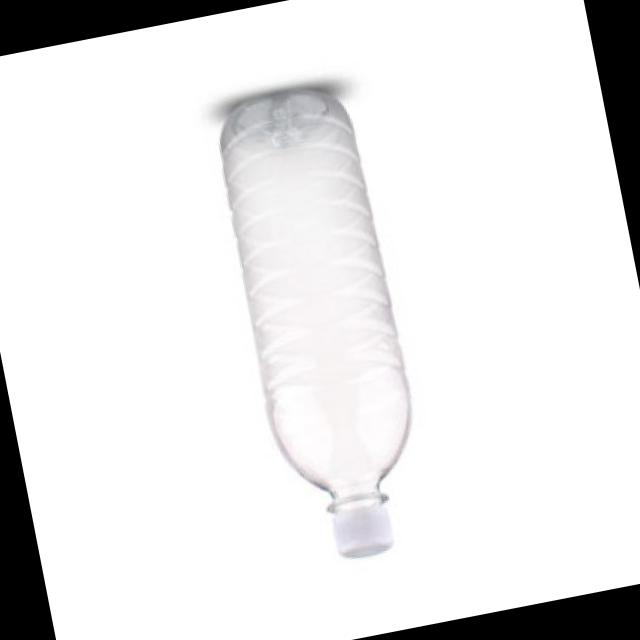plastic_bottle: (204, 79, 437, 570)
